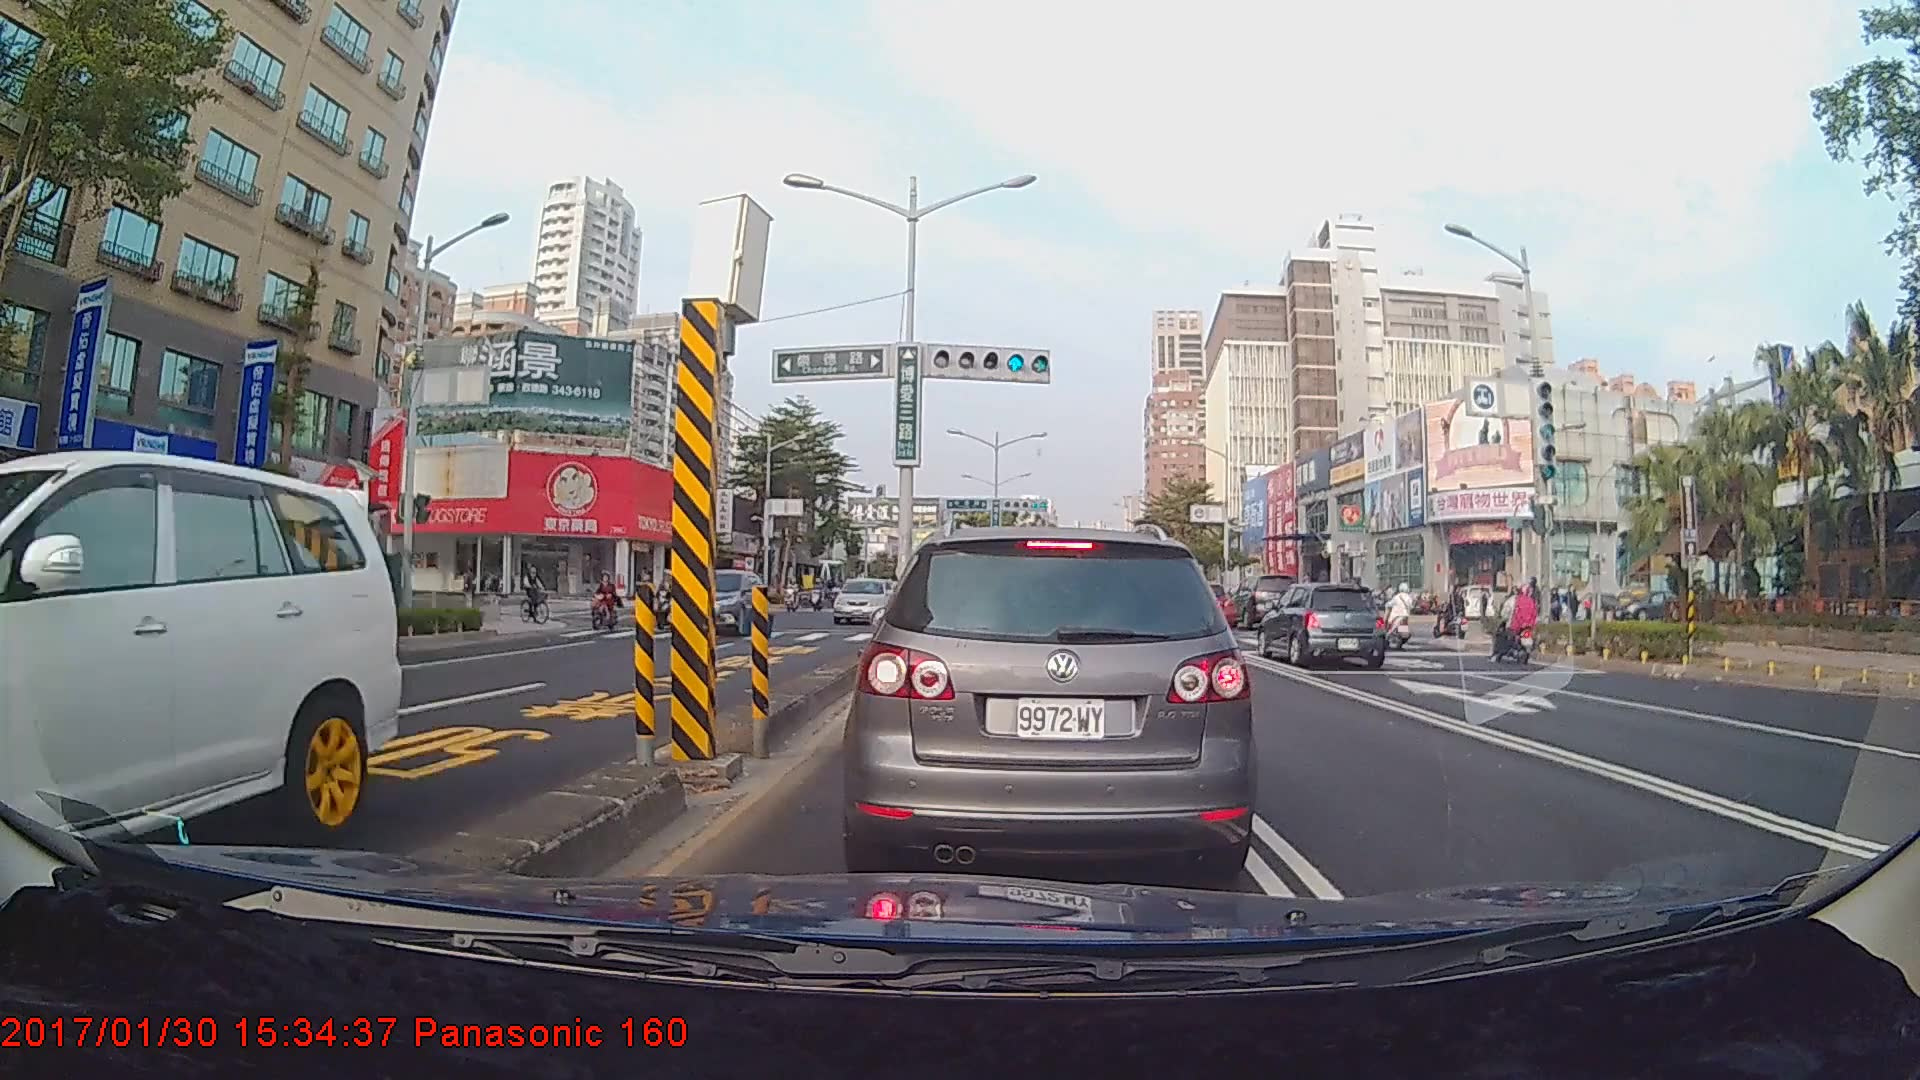rider: (1485, 582, 1548, 668), (518, 559, 561, 629), (585, 567, 626, 637), (1436, 582, 1473, 646)
vehicle: (0, 447, 397, 852), (852, 521, 1250, 884), (1254, 582, 1386, 667), (664, 568, 766, 636), (1226, 570, 1296, 628), (831, 576, 895, 624)
